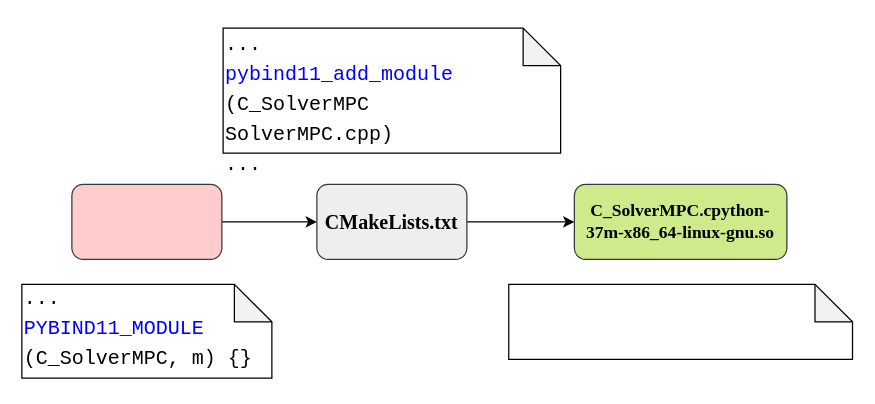
Image size: 875x404. Some labels were removed from this diagram. Here are the shapes that lost their labels. From the top down, the centre of each, then its label:
At (x=146, y=221): "SolverMPC.cpp".
At (x=680, y=321): "import C_SolverMPC as mpc ...".
